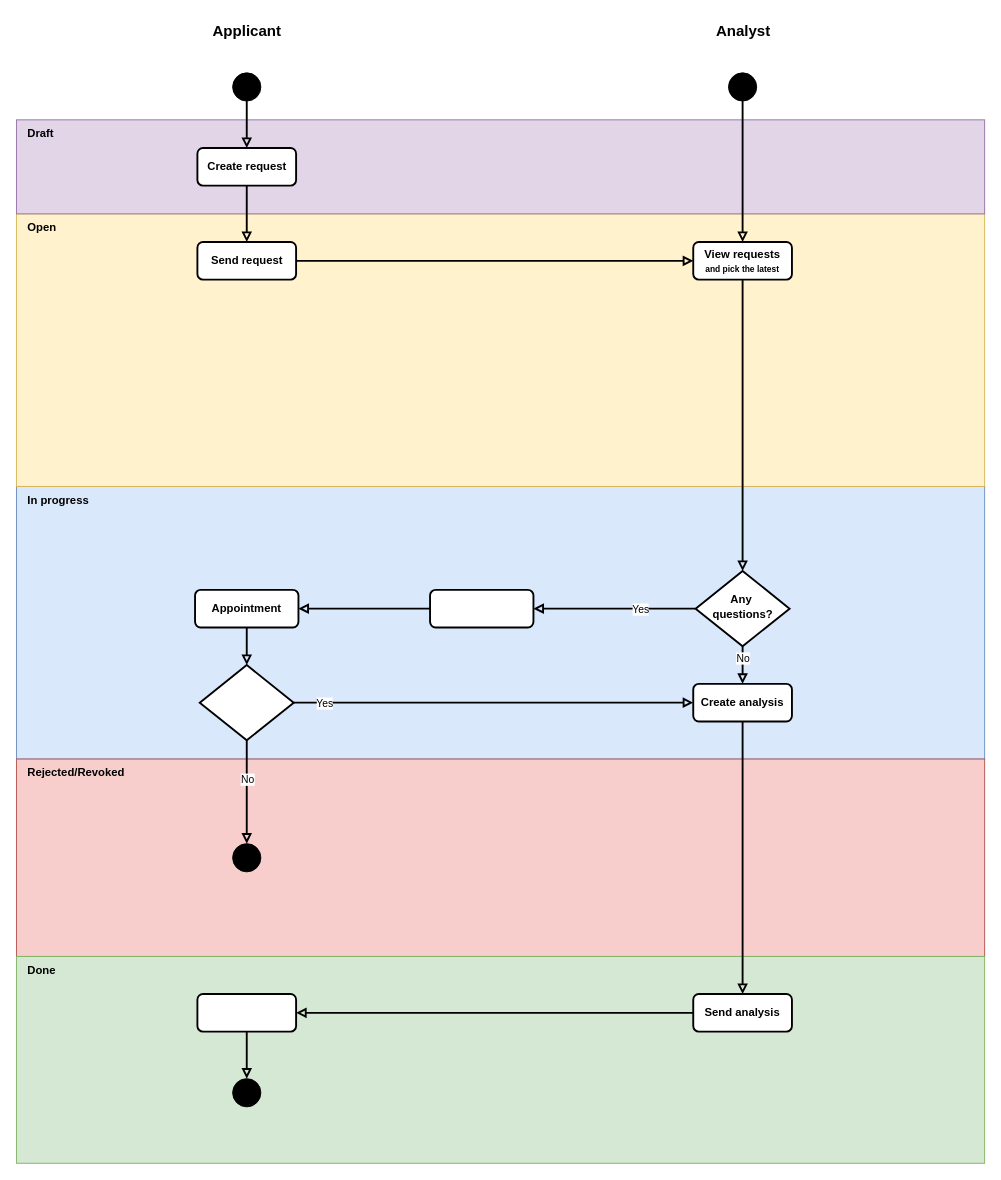
The diagram is 1001 pixels wide and 1180 high, and some of its shapes have lost their labels. The box of each missing label's shape, as (x1, y1, x2, y2) in pixels:
Agreement: (198, 664, 294, 741)
Contact applicant: (429, 588, 534, 628)
View analysis: (196, 993, 297, 1032)
